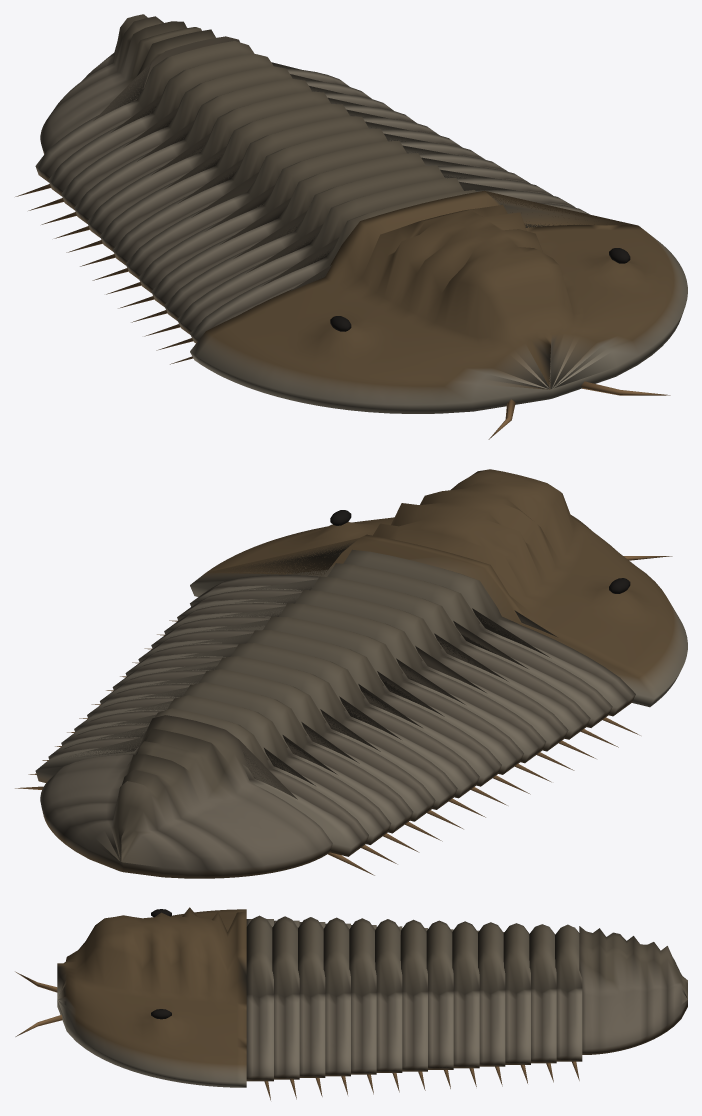
File: CalymeneBlumenbachii.fbx
The picture shows the model from 3 angles, top to bottom: view 1: azimuth 30°, elevation 25°; view 2: azimuth 150°, elevation 25°; view 3: azimuth 270°, elevation 25°; orthographic projection. The views are drawn at different scales.
Parts seen in each view (by area): view 1: CalymeneBlumenbachii; view 2: CalymeneBlumenbachii; view 3: CalymeneBlumenbachii.
Boxes of the visible parts, x1=… form: CalymeneBlumenbachii: x1=15, y1=14, x2=687, y2=439; CalymeneBlumenbachii: x1=15, y1=469, x2=687, y2=878; CalymeneBlumenbachii: x1=15, y1=907, x2=687, y2=1100.
Bounding box in the file's own units: 1.02 × 0.26 × 1.71.
